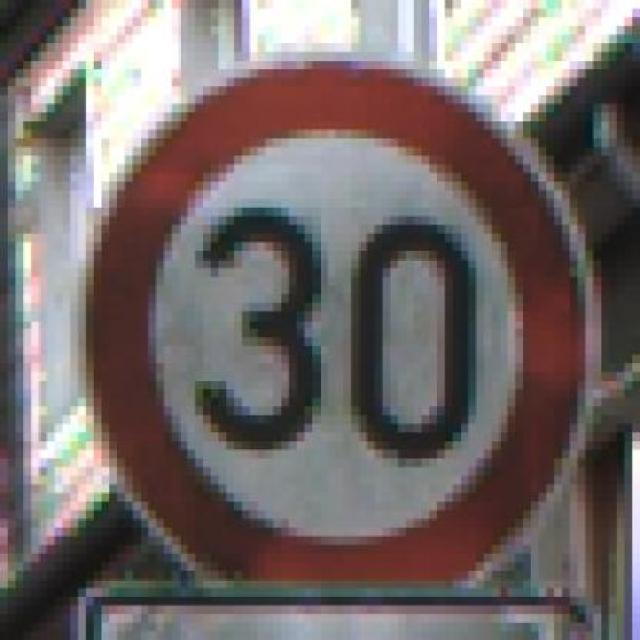speed limit 30: (82, 54, 594, 591)
